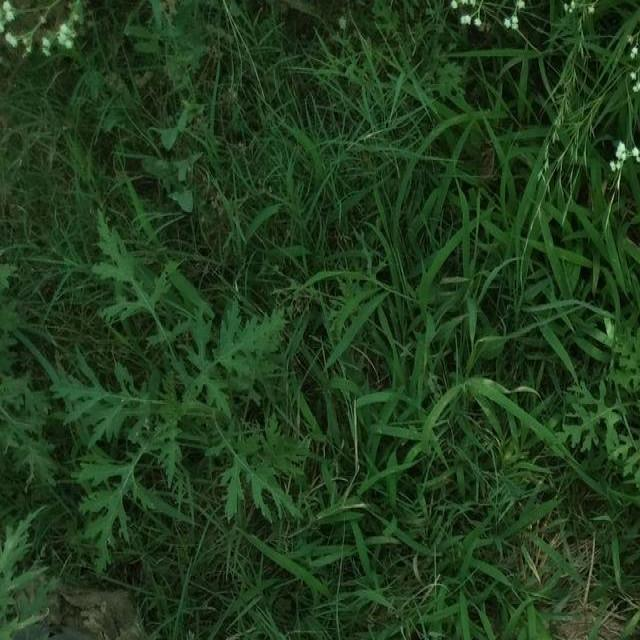weed: (73, 218, 274, 536), (570, 336, 640, 483)
